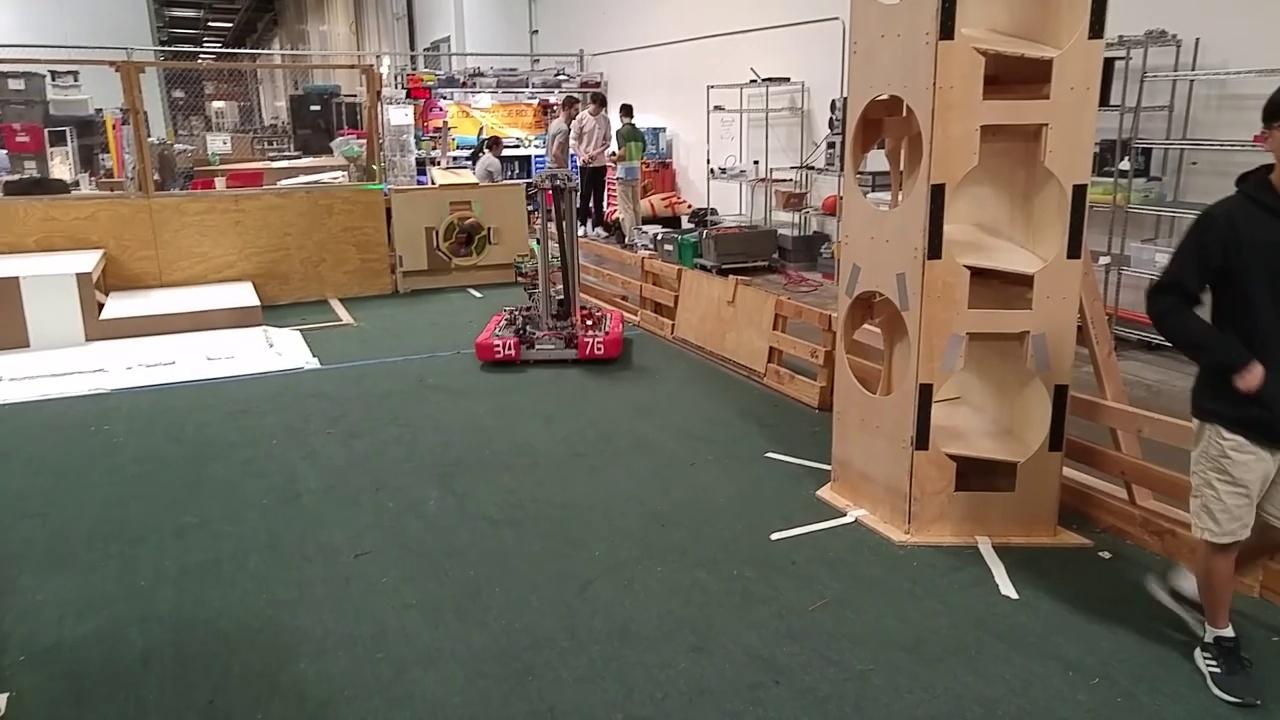robot: (470, 165, 628, 370)
